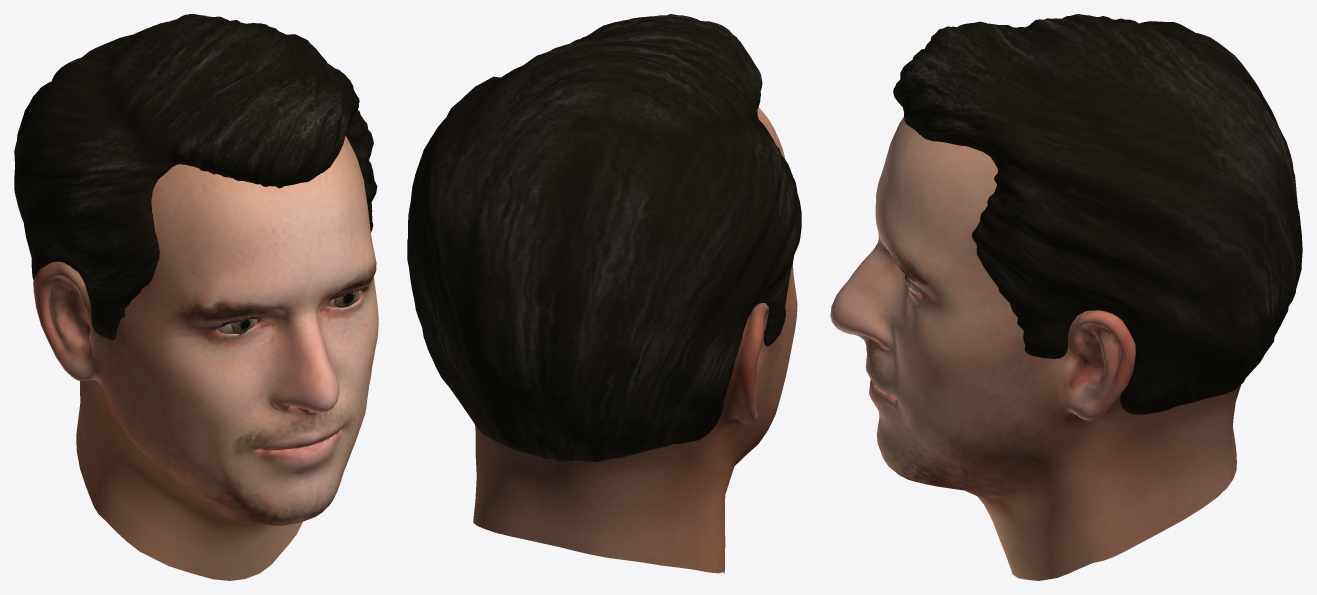
The model's file is head_instructor_c.glb.
The picture shows the model from 3 angles, left to right: view 1: azimuth 30°, elevation 25°; view 2: azimuth 150°, elevation 25°; view 3: azimuth 270°, elevation 25°; orthographic projection. The views are drawn at different scales.
Visible parts, largest first — view 1: skp8886; view 2: skp8886; view 3: skp8886.
Part boxes in pixels (bbox=[...]): skp8886: bbox=[14, 14, 378, 580]; skp8886: bbox=[407, 14, 801, 573]; skp8886: bbox=[830, 14, 1302, 580].
Size of the model in its own units: 0.1737 by 0.2722 by 0.2149.
1 material, 1 textured.
